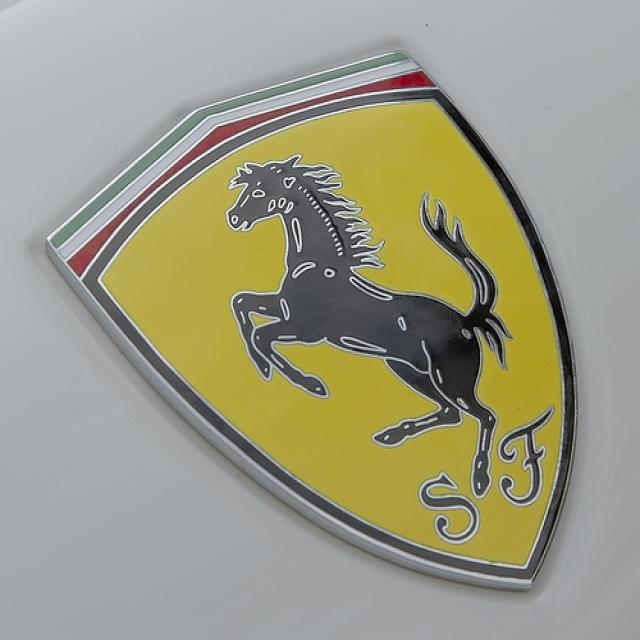ferrari: (47, 45, 580, 580)
